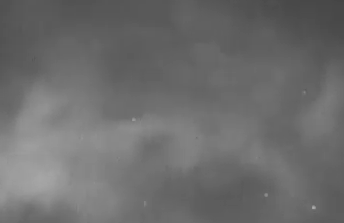Target: (133, 92, 315, 208)
